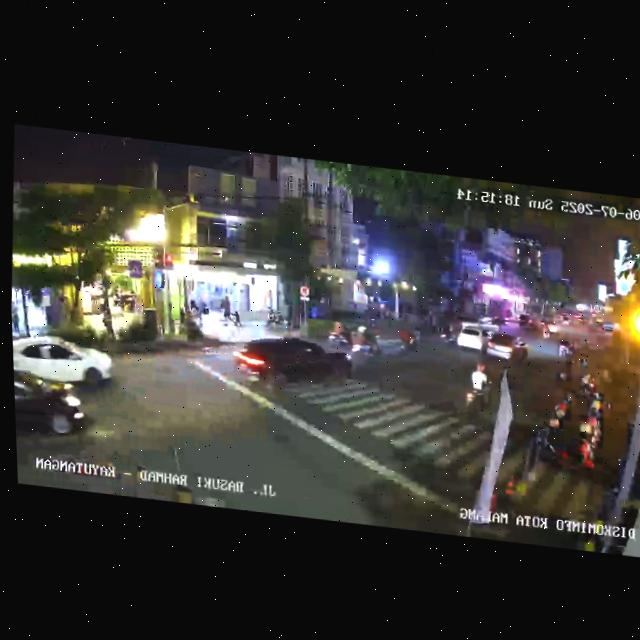car: (233, 327, 352, 406), (13, 363, 92, 450), (12, 333, 115, 398), (483, 328, 531, 365), (451, 324, 497, 356)
motorcycle: (462, 359, 495, 418), (348, 324, 386, 367), (326, 319, 354, 354), (401, 322, 423, 353), (557, 335, 574, 362)
person: (188, 299, 202, 331), (100, 303, 113, 335), (11, 303, 20, 333), (231, 307, 243, 329), (221, 297, 231, 323)
